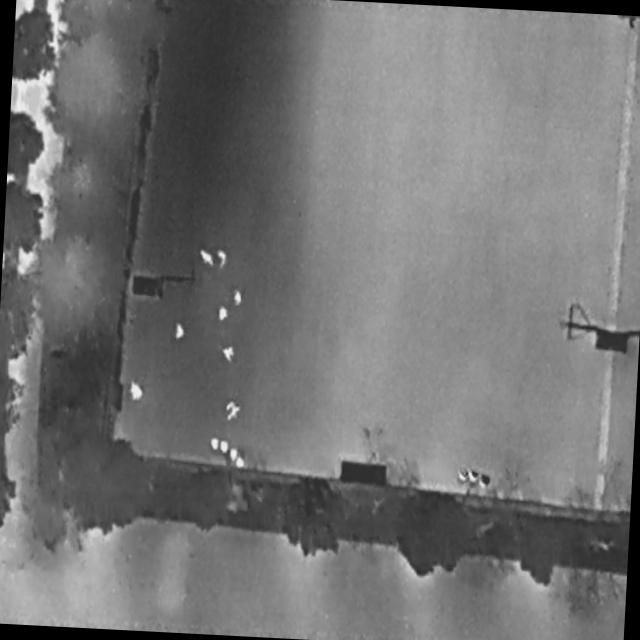person: (196, 245, 218, 271), (130, 381, 146, 403), (226, 402, 242, 423), (215, 249, 229, 270), (222, 344, 236, 364), (174, 323, 187, 343), (234, 290, 245, 308), (218, 307, 230, 323)
